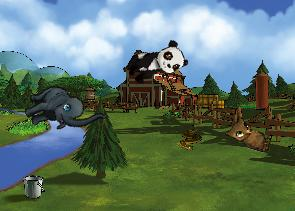elephant: (18, 69, 106, 151)
owl: (223, 113, 276, 153)
panda: (122, 37, 189, 89)
